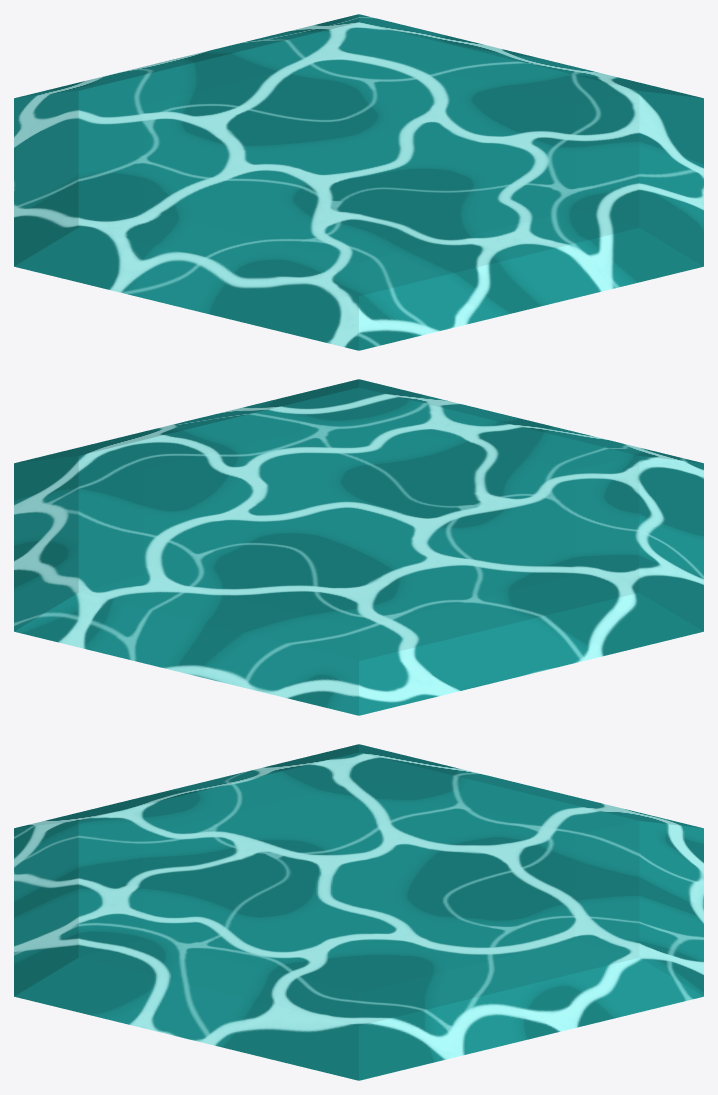
File: RiverTile.RiverChunk.Center.fbx
3 renders of one model, top to bottom at view 1: azimuth 30°, elevation 25°; view 2: azimuth 150°, elevation 25°; view 3: azimuth 270°, elevation 25°, orthographic.
Parts seen in each view (by area): view 1: PathChunk.Center; view 2: PathChunk.Center; view 3: PathChunk.Center.
Part boxes in pixels (x1,y1,x2,y2): PathChunk.Center: [14, 14, 703, 350]; PathChunk.Center: [14, 379, 703, 715]; PathChunk.Center: [14, 744, 703, 1080].
Size of the model in its own units: 10.2 by 0.3548 by 8.83.
